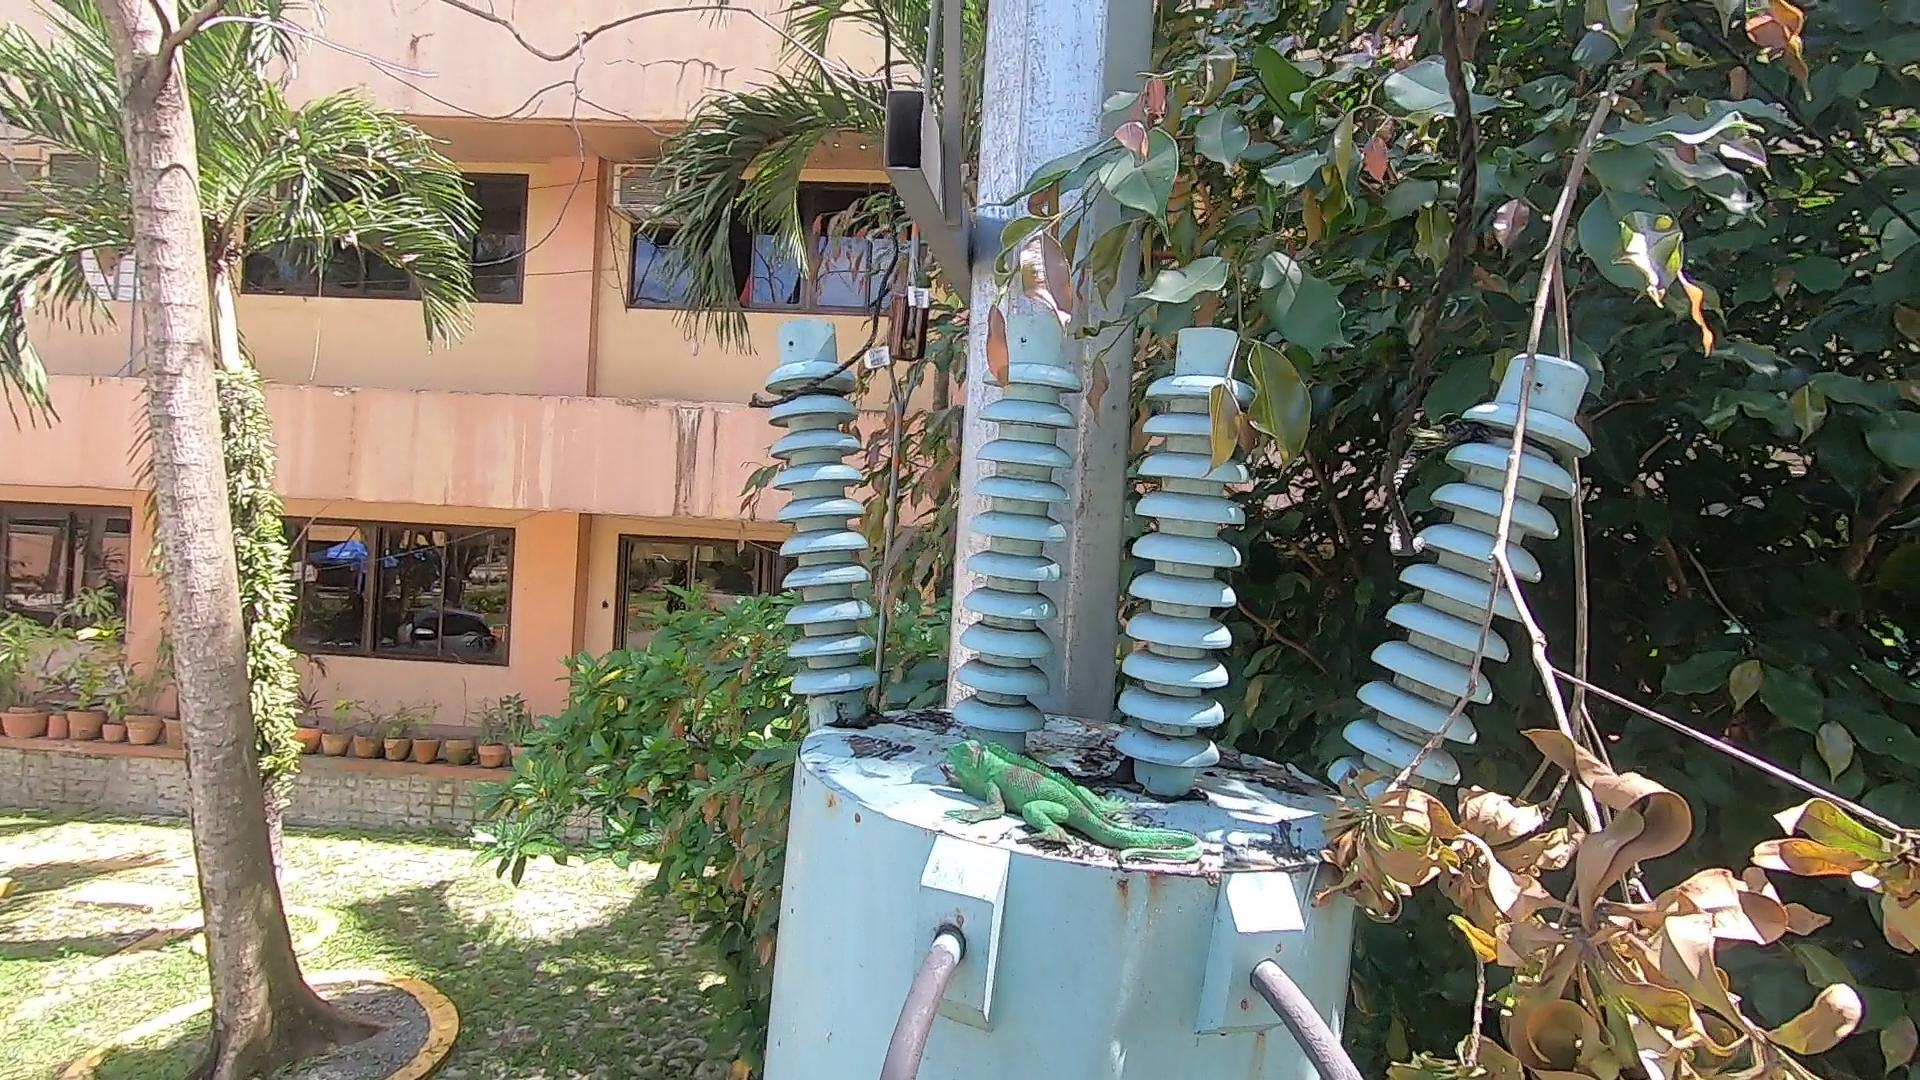branch with leaves: (1324, 51, 1920, 1071)
leaf: (1098, 758, 1145, 781)
